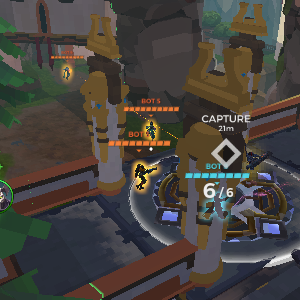model: (134, 159, 150, 193), (144, 116, 158, 139), (61, 62, 73, 82)
